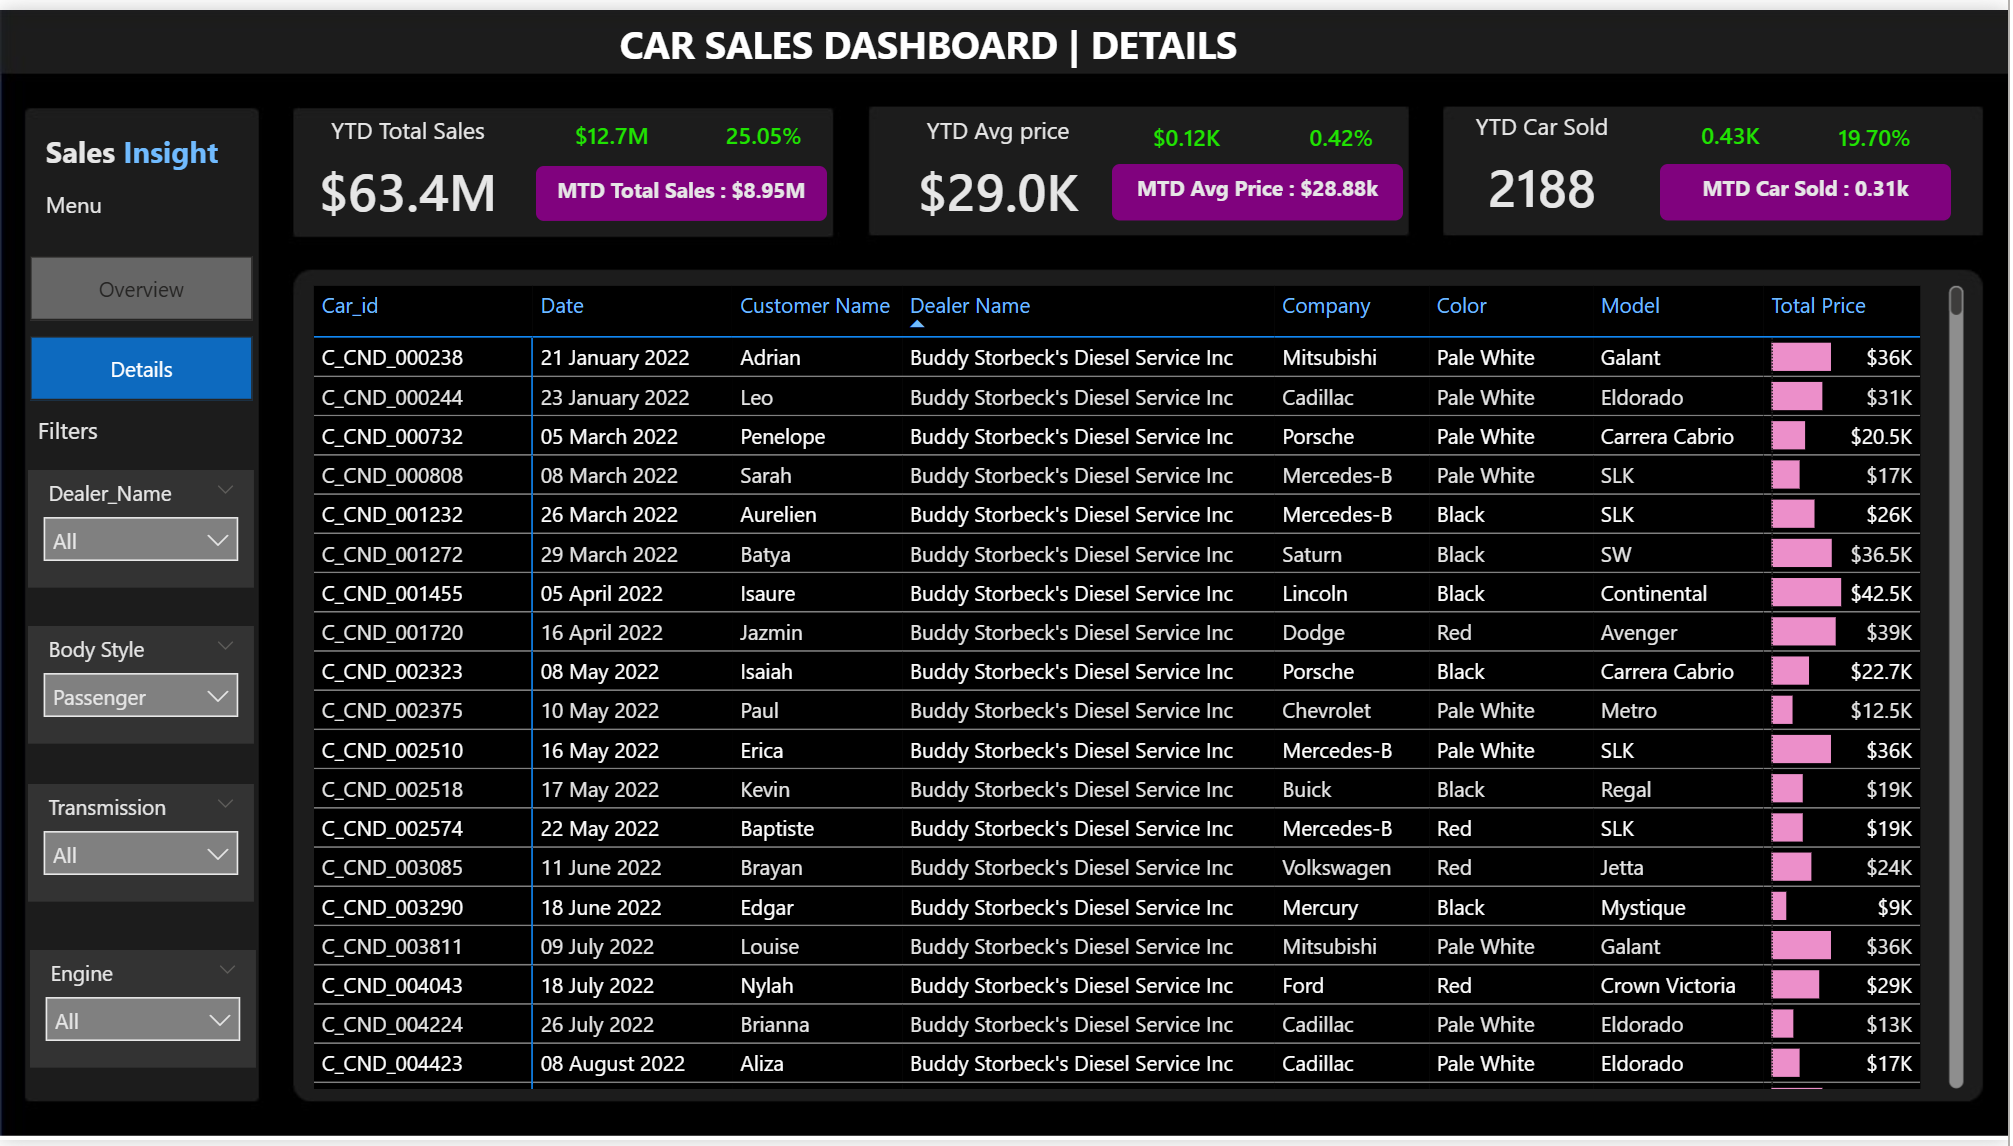

The page's visual inventory and layout, read from the dashboard file:
{"tool":"powerbi","page":{"name":"Details","canvas":[1280,720],"ordinal":1},"visuals":[{"type":"card","title":"YTD Total Sales","fields":{"Values":["car_data.YTD total sales"]},"box":[170.6,66,178.6,78.5],"z":0},{"type":"card","fields":{"Values":["car_data.Sales Difference"]},"box":[329.9,59.1,119.4,46.6],"z":1000},{"type":"card","fields":{"Values":["car_data.YOY Sales Growth"]},"box":[427.7,59.1,119.4,46.6],"z":2000},{"type":"card","fields":{"Values":["car_data.MTD KPI"]},"box":[341.4,99.5,185.3,35.2],"z":3000},{"type":"card","title":"YTD Avg price","fields":{"Values":["car_data.YTD Avg Price"]},"box":[547.5,66.5,178.6,78.2],"z":4000},{"type":"card","fields":{"Values":["car_data.Avg Price Diff"]},"box":[696,59.5,120.4,47],"z":5000},{"type":"card","fields":{"Values":["car_data.YOY Avg Price Growth"]},"box":[795.7,59.5,119,47],"z":6000},{"type":"card","fields":{"Values":["car_data.MTD Avg Price KPI"]},"box":[708.5,98.2,185.4,36],"z":7000},{"type":"card","title":"YTD Car Sold","fields":{"Values":["car_data.YTD Car Sold"]},"box":[893.9,63.7,178.5,78.9],"z":8000},{"type":"card","fields":{"Values":["car_data.Cars Sold Diff"]},"box":[1043.4,58.1,120.4,47],"z":9000},{"type":"card","fields":{"Values":["car_data.YOY Car Sold Growth"]},"box":[1134.7,59.5,120.4,47],"z":10000},{"type":"card","fields":{"Values":["car_data.MTD Car Sold KPI"]},"box":[1058.6,98.2,185.4,36],"z":11000},{"type":"textbox","box":[390,0,452.5,46.2],"z":12000},{"type":"slicer","fields":{"Values":["car_data.Body Style"]},"box":[17.5,392.8,143.8,75],"z":13000},{"type":"slicer","fields":{"Values":["car_data.Dealer_Name"]},"box":[17.5,292.8,143.8,75],"z":14000},{"type":"slicer","fields":{"Values":["car_data.Transmission"]},"box":[17.5,492.8,143.8,75],"z":15000},{"type":"slicer","fields":{"Values":["car_data.Engine"]},"box":[18.8,599,143.8,75],"z":16000},{"type":"textbox","box":[18.8,252.5,77.5,35],"z":17000},{"type":"pivotTable","fields":{"Rows":["car_data.Car_id"],"Values":["Min(car_data.Date)","Min(car_data.Customer Name)","Min(car_data.Dealer_Name)","Min(car_data.Company)","Min(car_data.Color)","Min(car_data.Model)","Sum(car_data.Price ($))"]},"box":[195,171.2,1061.2,521.2],"z":17001},{"type":"pageNavigator","box":[18.8,156.2,142.5,92.5],"z":17002},{"type":"textbox","box":[23.8,72.5,138.8,35],"z":17003},{"type":"textbox","box":[23.8,110,86.2,35],"z":17004}]}

Visuals, with their boxes in screenshot pixels (x1, y1, x2, y2), scaled from the page's 1280x720 canvas onto the 2013x1146 screenshot:
"YTD Total Sales" card: bbox=(268, 105, 549, 230)
card - car_data.Sales Difference: bbox=(519, 94, 707, 168)
card - car_data.YOY Sales Growth: bbox=(673, 94, 860, 168)
card - car_data.MTD KPI: bbox=(537, 158, 828, 214)
"YTD Avg price" card: bbox=(861, 106, 1142, 230)
card - car_data.Avg Price Diff: bbox=(1095, 95, 1284, 170)
card - car_data.YOY Avg Price Growth: bbox=(1251, 95, 1439, 170)
card - car_data.MTD Avg Price KPI: bbox=(1114, 156, 1406, 214)
"YTD Car Sold" card: bbox=(1406, 101, 1687, 227)
card - car_data.Cars Sold Diff: bbox=(1641, 92, 1830, 167)
card - car_data.YOY Car Sold Growth: bbox=(1784, 95, 1974, 170)
card - car_data.MTD Car Sold KPI: bbox=(1665, 156, 1956, 214)
textbox: bbox=(613, 0, 1325, 74)
slicer - car_data.Body Style: bbox=(28, 625, 254, 745)
slicer - car_data.Dealer_Name: bbox=(28, 466, 254, 585)
slicer - car_data.Transmission: bbox=(28, 784, 254, 904)
slicer - car_data.Engine: bbox=(30, 953, 256, 1073)
textbox: bbox=(30, 402, 151, 458)
pivotTable - car_data.Car_id x Min(car_data.Date): bbox=(307, 272, 1976, 1102)
pageNavigator: bbox=(30, 249, 254, 396)
textbox: bbox=(37, 115, 256, 171)
textbox: bbox=(37, 175, 173, 231)
